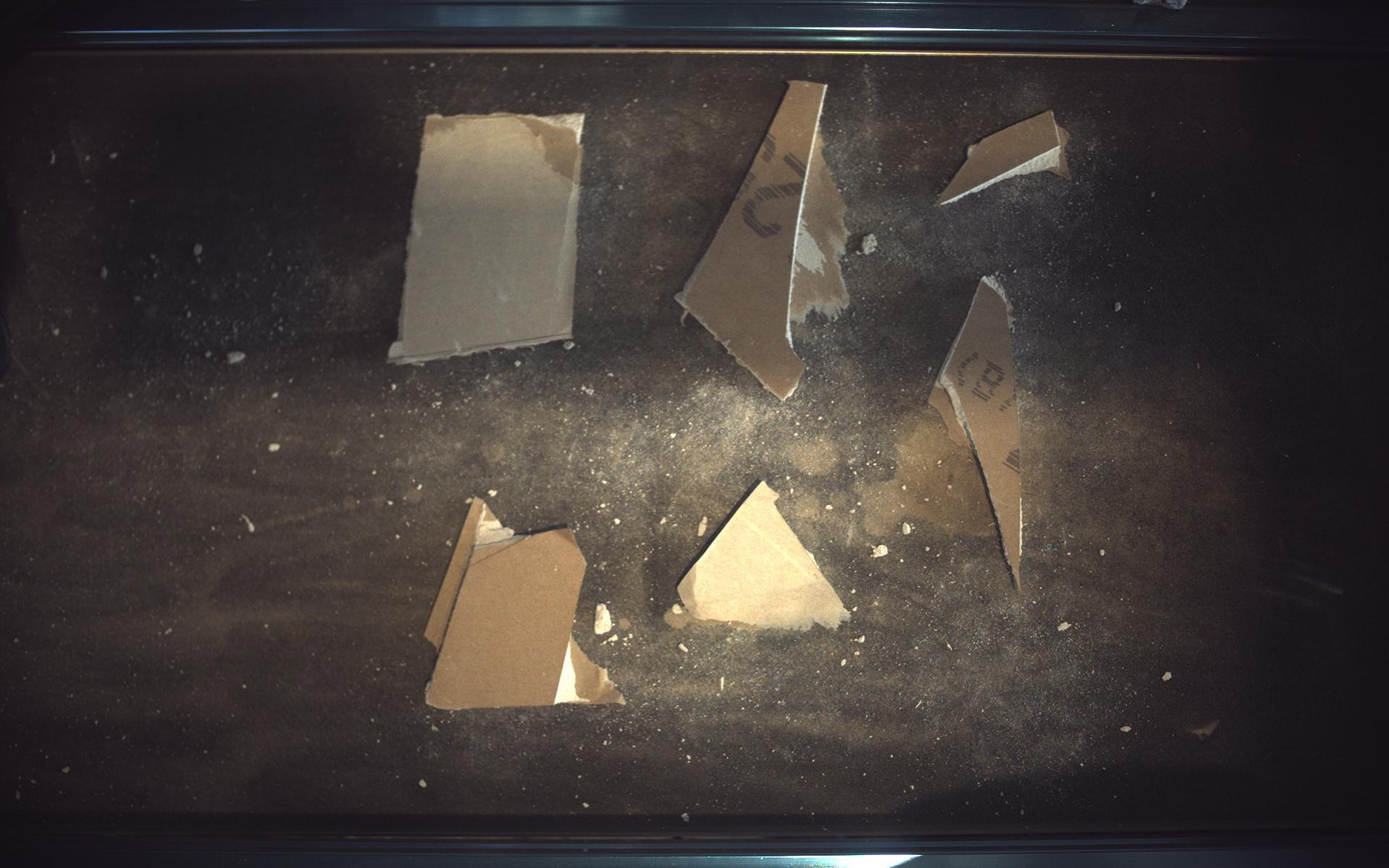gypsum_board: (676, 80, 851, 400), (388, 112, 584, 364), (425, 499, 625, 711), (931, 276, 1024, 590), (679, 482, 851, 631), (939, 110, 1073, 204)
